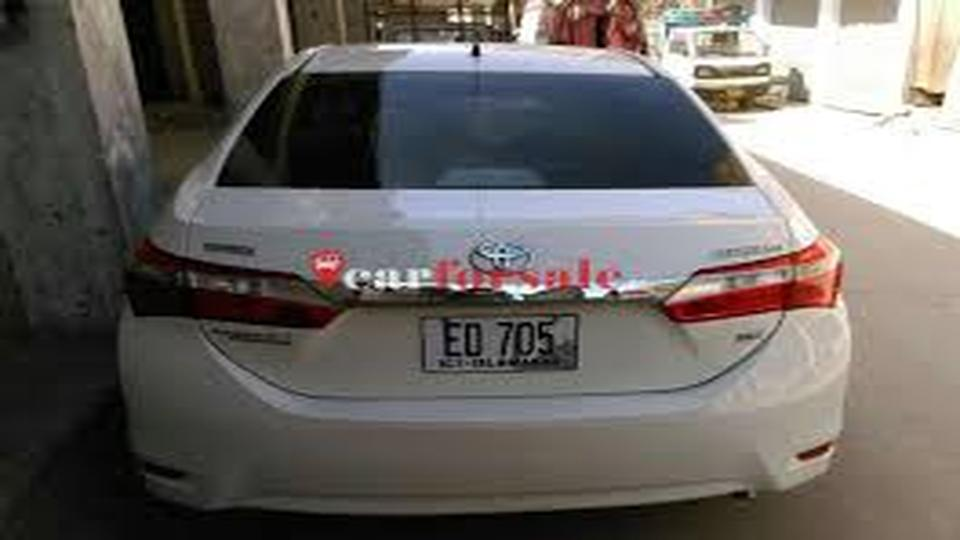NumberPlate: (423, 310, 594, 380)
